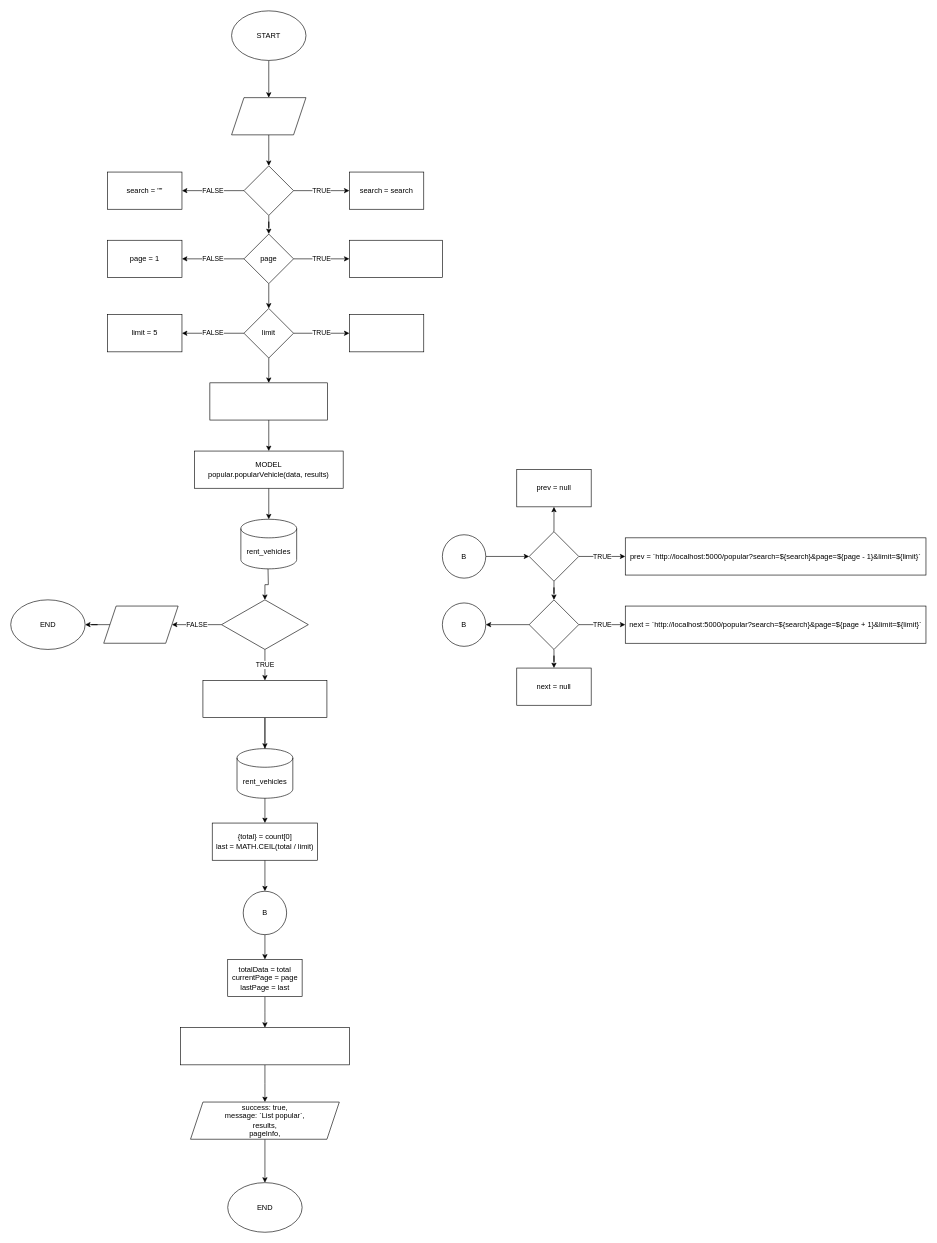
Some shapes in this 937 by 1243 pixel diagram are drawn without their labels. The centre of each missing label's shape, as x and y in pixels:
"Data not found": the point at 140,624
limit = PARSEINT(limit): the point at 386,333
Model popular.countPopular(data, count): the point at 264,699
offset = (page -1) * limit data = {search, limit, offset}: the point at 268,401
page < last: the point at 554,624
page = PARSEINT(page): the point at 395,258
page > 1: the point at 554,556
pageInfo: { prev, next, totalData, currentPage, lastPage },: the point at 264,1046
results.LENGTH > 0: the point at 264,624
seacrh page limit: the point at 268,116
search: the point at 268,190
